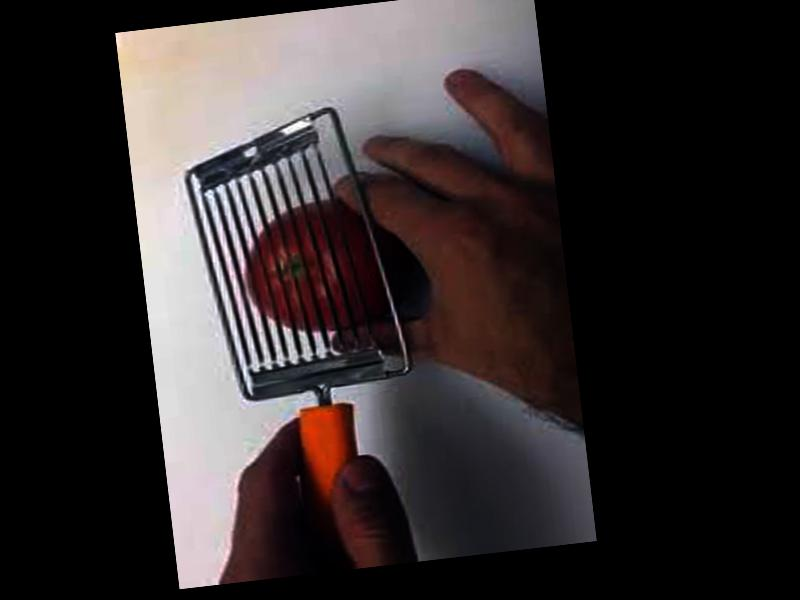Tomato: (239, 195, 413, 342)
